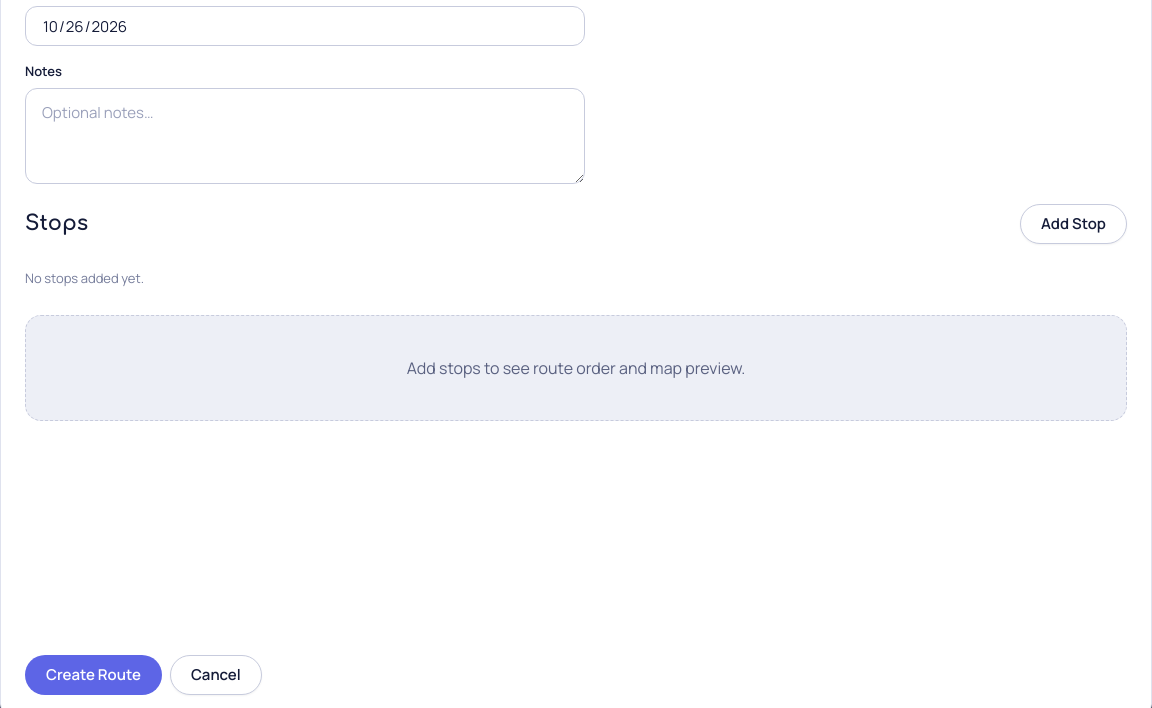
RouteForm › shows validation error when customer is not selected and form submitted
The image size is (1152, 708).
(page scrolled)
What coordinates should you click on to do the following:
click the button "Create Route"
I would click on:
 (93, 674)
Its box is [25,654,162,694].
(page scrolled)
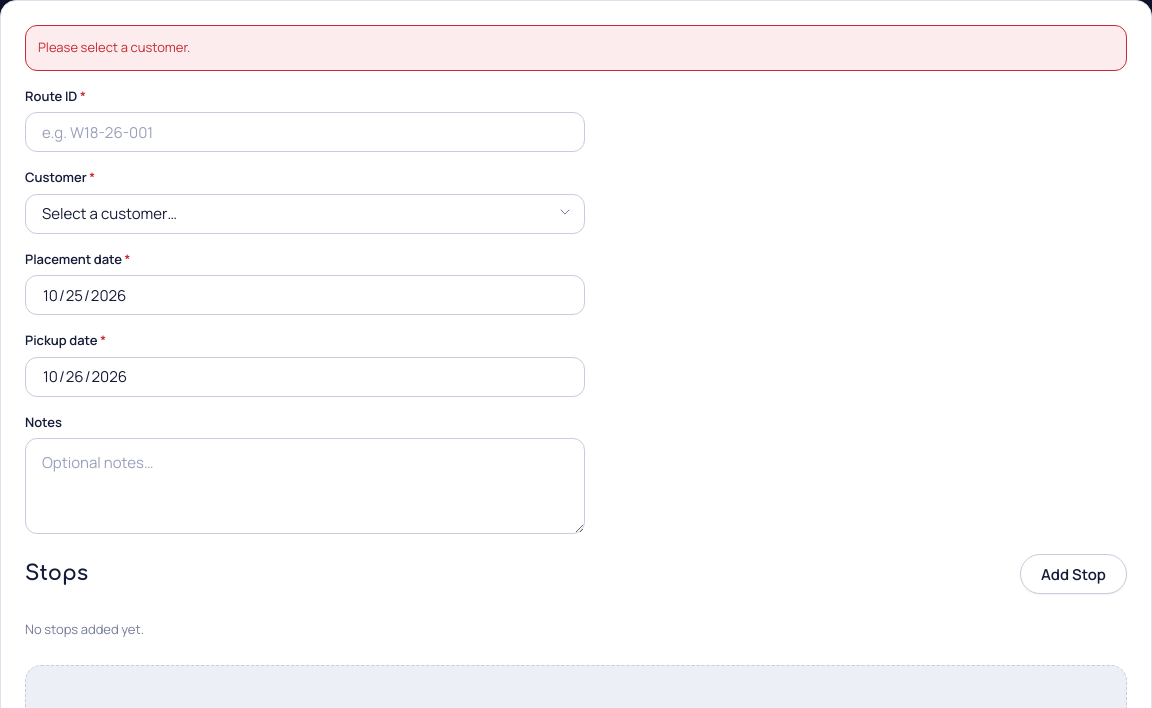
expect the text "Please select a customer." is shown: met, box [25,25,1127,70]
